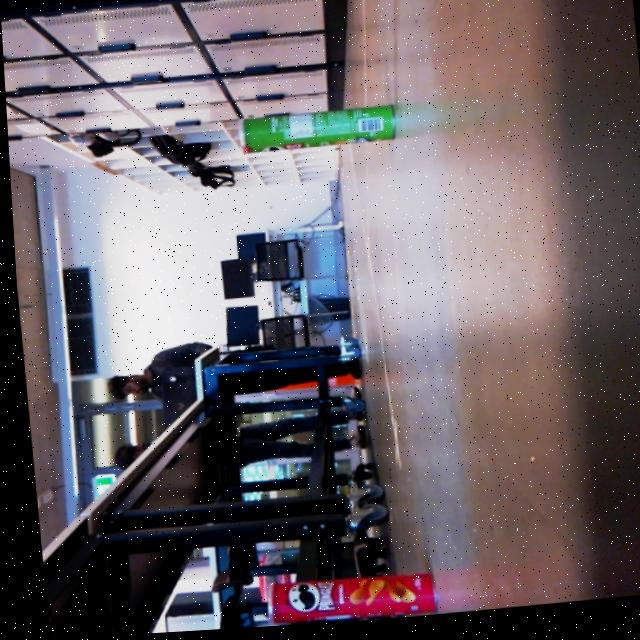greenpringles: (222, 100, 408, 163)
redpringles: (245, 567, 433, 630)
